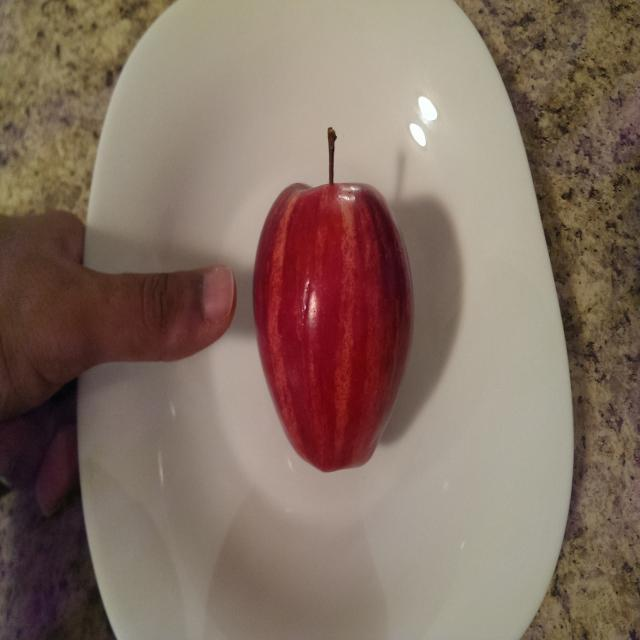Apple: (246, 115, 423, 480)
Finger: (120, 259, 240, 372)
